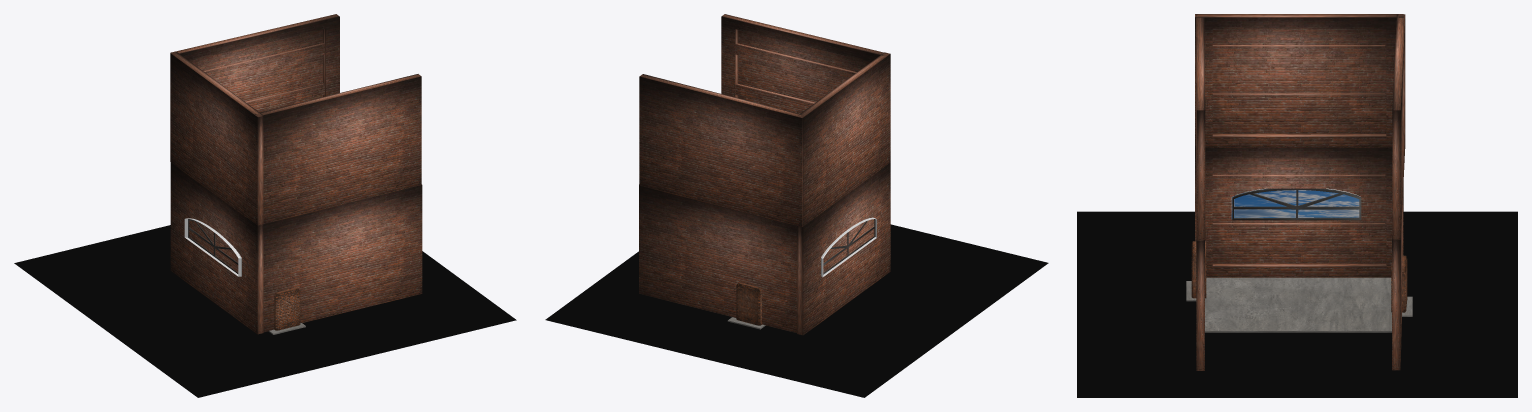
The model's file is MundoAlmacenblendFin.glb.
The picture shows the model from 3 angles, left to right: view 1: azimuth 30°, elevation 25°; view 2: azimuth 150°, elevation 25°; view 3: azimuth 270°, elevation 25°; orthographic projection. The views are drawn at different scales.
Visible parts, largest first — view 1: Plano, Cubo.006, Cubo, Cubo.005, Cubo.007, Cubo.003, Cubo.002, Esfera; view 2: Plano, Cubo.007, Cubo.001, Cubo.005, Cubo.006, Cubo.003, Cubo.004, Esfera; view 3: Plano, Cubo.005, Cubo.003, Cube, Esfera, Cubo.007, Cubo.006, Cubo.001, Cubo, Cubo.002.
Part boxes in pixels (left/top/right/bottom): Plano: left=14, top=225, right=516, bottom=397; Cubo.006: left=254, top=74, right=421, bottom=223; Cubo: left=263, top=184, right=422, bottom=332; Cubo.005: left=170, top=52, right=263, bottom=225; Cubo.007: left=170, top=14, right=339, bottom=161; Cubo.003: left=170, top=162, right=263, bottom=334; Cubo.002: left=274, top=287, right=300, bottom=330; Esfera: left=184, top=218, right=241, bottom=276; Plano: left=545, top=224, right=1048, bottom=397; Cubo.007: left=639, top=74, right=802, bottom=226; Cubo.001: left=639, top=184, right=796, bottom=332; Cubo.005: left=797, top=52, right=890, bottom=226; Cubo.006: left=721, top=14, right=887, bottom=113; Cubo.003: left=797, top=162, right=890, bottom=335; Cubo.004: left=736, top=282, right=761, bottom=325; Esfera: left=821, top=217, right=876, bottom=277; Plano: left=1077, top=211, right=1517, bottom=397; Cubo.005: left=1195, top=14, right=1403, bottom=147; Cubo.003: left=1195, top=147, right=1403, bottom=277; Cube: left=1205, top=277, right=1391, bottom=332; Esfera: left=1231, top=188, right=1361, bottom=220; Cubo.007: left=1392, top=14, right=1405, bottom=239; Cubo.006: left=1196, top=14, right=1205, bottom=240; Cubo.001: left=1392, top=198, right=1402, bottom=370; Cubo: left=1196, top=213, right=1204, bottom=370; Cubo.002: left=1191, top=241, right=1206, bottom=298.
Size of the model in its own units: 55.86 by 36.76 by 55.86.
17 materials, 13 textured.
